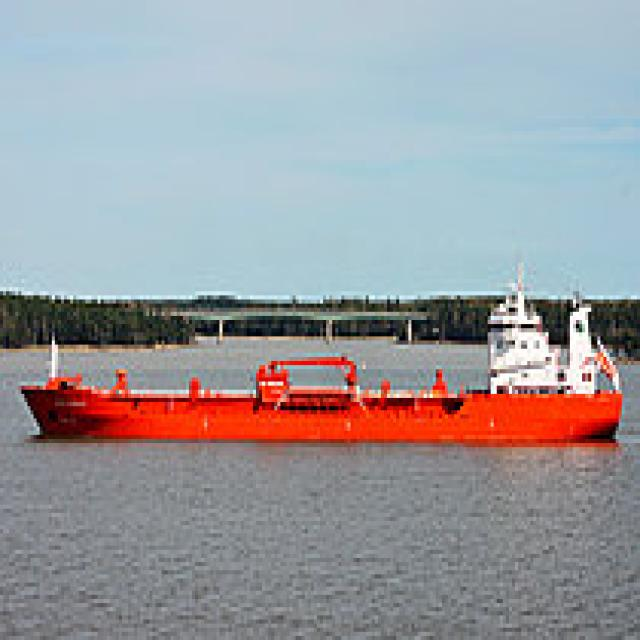Tanker: (12, 254, 625, 435)
